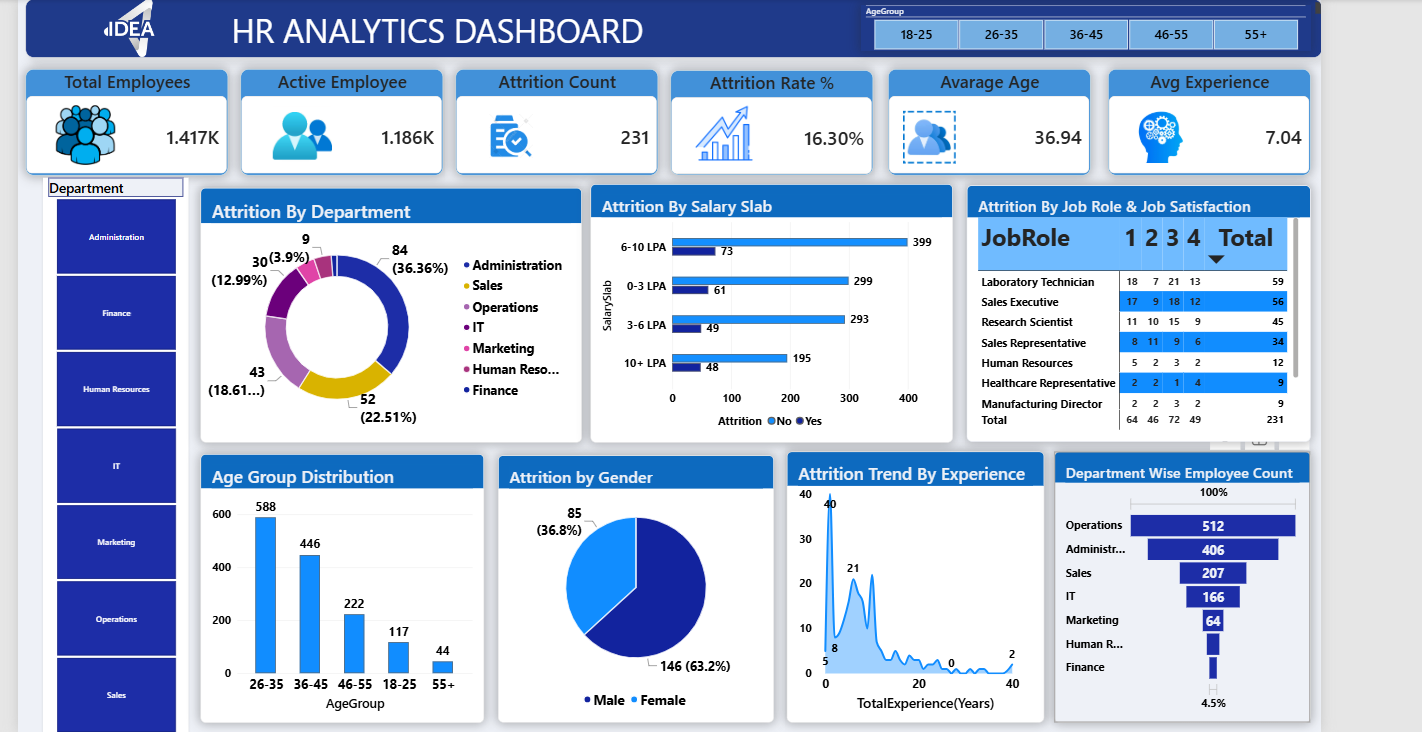

This screenshot's page, from the dashboard's own definition file:
{"tool":"powerbi","page":{"name":"Page 1","canvas":[1920,1080],"ordinal":0},"visuals":[{"type":"textbox","box":[11,0,1908.6,86.5],"z":0},{"type":"image","box":[118,0,91.4,85.6],"z":1000},{"type":"cardVisual","title":"Total Employees","fields":{"Data":["CountNonNull(HR_Analytics-4.EmpID)"]},"box":[11,103.1,298.2,156.4],"z":2000},{"type":"cardVisual","title":"Active Employee","fields":{"Data":["CountNonNull(HR_Analytics-4.EmpID)"]},"box":[327.6,103.1,298.2,156.4],"z":3000},{"type":"cardVisual","title":"Avg Experience","fields":{"Data":["Avg(HR_Analytics-4.YearsatCompany)"]},"box":[1604.9,103.1,298.2,156.4],"z":4000},{"type":"cardVisual","title":"Avarage Age","fields":{"Data":["Avg(HR_Analytics-4.Age)"]},"box":[1281,103.1,298.2,156.4],"z":5000},{"type":"cardVisual","title":"Attrition Rate %","fields":{"Data":["HR_Analytics-4.Attrition Rate %"]},"box":[961,105.1,298,154.7],"z":6000},{"type":"cardVisual","title":"Attrition Count","fields":{"Data":["Sum(HR_Analytics-4.AttritionCount)"]},"box":[644.2,103.1,298.2,156.4],"z":7000},{"type":"image","box":[36.3,156.7,124.2,87.9],"z":8000},{"type":"image","box":[360.7,158.3,116,86.5],"z":9000},{"type":"image","box":[658.9,169.3,134.4,64.4],"z":10000},{"type":"image","box":[995.3,150.9,87.9,93.6],"z":11000},{"type":"image","box":[1303.1,158.3,77.3,90.2],"z":12000},{"type":"image","box":[1632.5,158.3,99.4,82.8],"z":13000},{"type":"slicer","fields":{"Values":["HR_Analytics-4.Department"]},"box":[37.3,263.2,214.3,817.7],"z":14000},{"type":"columnChart","title":"Age Group Distribution","fields":{"Category":["HR_Analytics-4.AgeGroup"],"Y":["Sum(HR_Analytics-4.EmployeeCount)"]},"box":[268.7,669.9,417.8,395.7],"z":15000},{"type":"pieChart","title":"Attrition by Gender","fields":{"Category":["HR_Analytics-4.Gender"],"Y":["Sum(HR_Analytics-4.AttritionCount)"]},"box":[706.8,671.8,406.8,393.9],"z":16000},{"type":"areaChart","title":"Attrition Trend By Experience","fields":{"Category":["HR_Analytics-4.TotalExperience(Years)"],"Y2":["Sum(HR_Analytics-4.AttritionCount)"]},"box":[1131.9,666.3,379.1,399.4],"z":17000},{"type":"funnel","title":"Department Wise Employee Count","fields":{"Category":["HR_Analytics-4.Department"],"Y":["CountNonNull(HR_Analytics-4.EmpID)"]},"box":[1525.8,666.3,377.3,399.4],"z":18000},{"type":"donutChart","title":"Attrition By Department","fields":{"Category":["HR_Analytics-4.Department"],"Y":["Sum(HR_Analytics-4.AttritionCount)"]},"box":[268.7,277.9,561.4,375.5],"z":19000},{"type":"pivotTable","title":"Attrition By Job Role & Job Satisfaction","fields":{"Columns":["HR_Analytics-4.JobSatisfaction"],"Rows":["HR_Analytics-4.JobRole"],"Values":["Sum(HR_Analytics-4.AttritionCount)"]},"box":[1396.9,274.2,506.1,377.3],"z":20000},{"type":"clusteredBarChart","title":"Attrition By Salary Slab","fields":{"Category":["HR_Analytics-4.SalarySlab"],"Series":["HR_Analytics-4.Attrition"],"Y":["CountNonNull(HR_Analytics-4.EmpID)"]},"box":[842.9,272.4,533.7,381],"z":21000},{"type":"slicer","fields":{"Values":["HR_Analytics-4.AgeGroup"]},"box":[1239.9,9.6,662.9,66.9],"z":22000}]}

Visuals, with their boxes on the page's 1920x1080 design canvas (x1, y1, x2, y2). These are canvas units, not pixel positions in the 1422x732 screenshot, which may show the page scaled, cropped or inside an application window:
textbox: (11,0,1920,86)
image: (118,0,209,86)
"Total Employees" cardVisual: (11,103,309,260)
"Active Employee" cardVisual: (328,103,626,260)
"Avg Experience" cardVisual: (1605,103,1903,260)
"Avarage Age" cardVisual: (1281,103,1579,260)
"Attrition Rate %" cardVisual: (961,105,1259,260)
"Attrition Count" cardVisual: (644,103,942,260)
image: (36,157,160,245)
image: (361,158,477,245)
image: (659,169,793,234)
image: (995,151,1083,244)
image: (1303,158,1380,248)
image: (1632,158,1732,241)
slicer - HR_Analytics-4.Department: (37,263,252,1081)
"Age Group Distribution" columnChart: (269,670,686,1066)
"Attrition by Gender" pieChart: (707,672,1114,1066)
"Attrition Trend By Experience" areaChart: (1132,666,1511,1066)
"Department Wise Employee Count" funnel: (1526,666,1903,1066)
"Attrition By Department" donutChart: (269,278,830,653)
"Attrition By Job Role & Job Satisfaction" pivotTable: (1397,274,1903,652)
"Attrition By Salary Slab" clusteredBarChart: (843,272,1377,653)
slicer - HR_Analytics-4.AgeGroup: (1240,10,1903,76)
